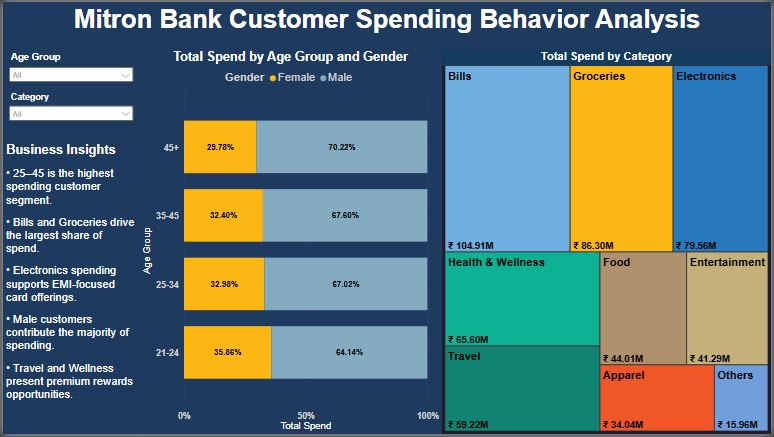

Layout of this report page (visuals, bound fields, positions):
{"tool":"powerbi","page":{"name":"Customer Spending Behhavior","canvas":[1280,720],"ordinal":1},"visuals":[{"type":"hundredPercentStackedBarChart","title":"Total Spend by Age Group and Gender","fields":{"Y":["dim_customers.Total Spend"],"Category":["dim_customers.age_group"],"Series":["dim_customers.gender"]},"box":[227,79.5,504.6,624.6],"z":0},{"type":"treemap","fields":{"Group":["fact_spends.category"],"Values":["dim_customers.Total Spend"]},"box":[731.6,68,548,652],"z":1000},{"type":"textbox","box":[0,0,1280,80],"z":2000},{"type":"slicer","fields":{"Values":["dim_customers.age_group"]},"box":[0,68,185.1,66.5],"z":3000},{"type":"slicer","fields":{"Values":["fact_spends.category"]},"box":[0,150.4,185.1,79.5],"z":4000},{"type":"textbox","box":[0,219.8,208.2,500.2],"z":5000}]}

Visuals, with their boxes in screenshot pixels (x1, y1, x2, y2), scaled from the page's 1280x720 canvas onto the 774x437 screenshot:
"Total Spend by Age Group and Gender" hundredPercentStackedBarChart: 137,48,442,427
treemap - fact_spends.category x dim_customers.Total Spend: 442,41,773,436
textbox: 0,0,773,49
slicer - dim_customers.age_group: 0,41,112,82
slicer - fact_spends.category: 0,91,112,140
textbox: 0,133,126,436
